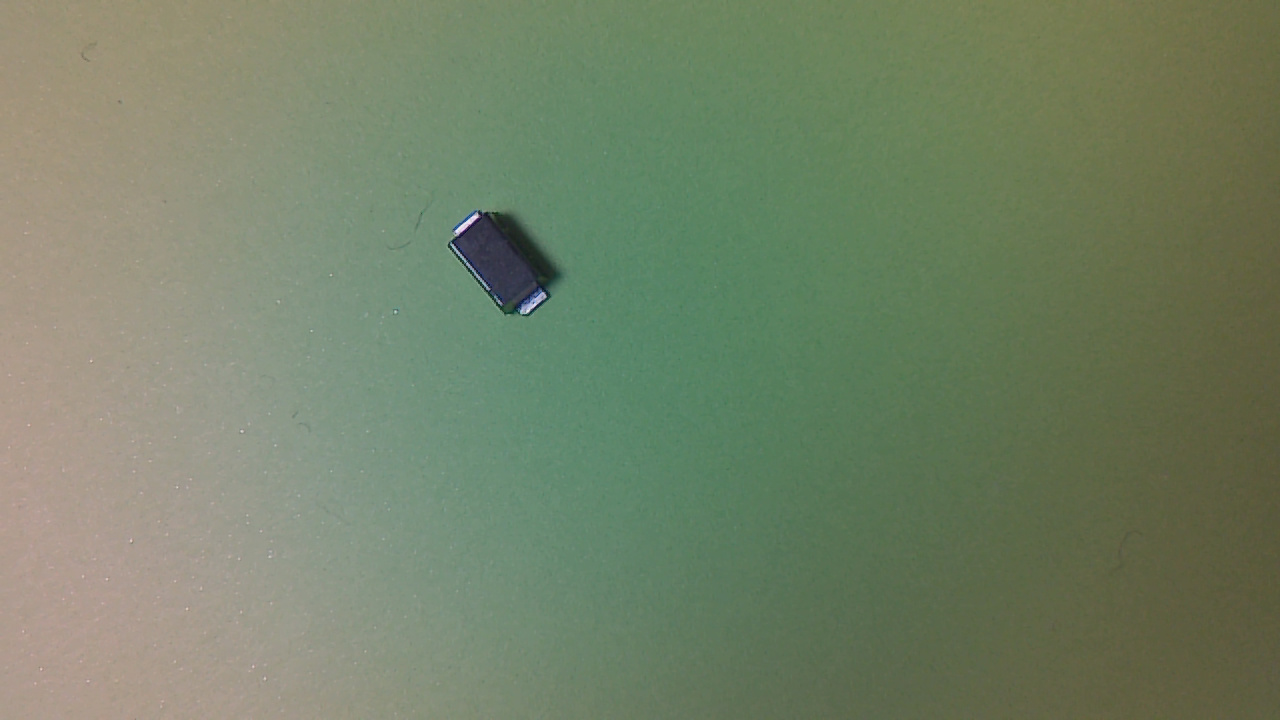Diode: (451, 212, 560, 327)
